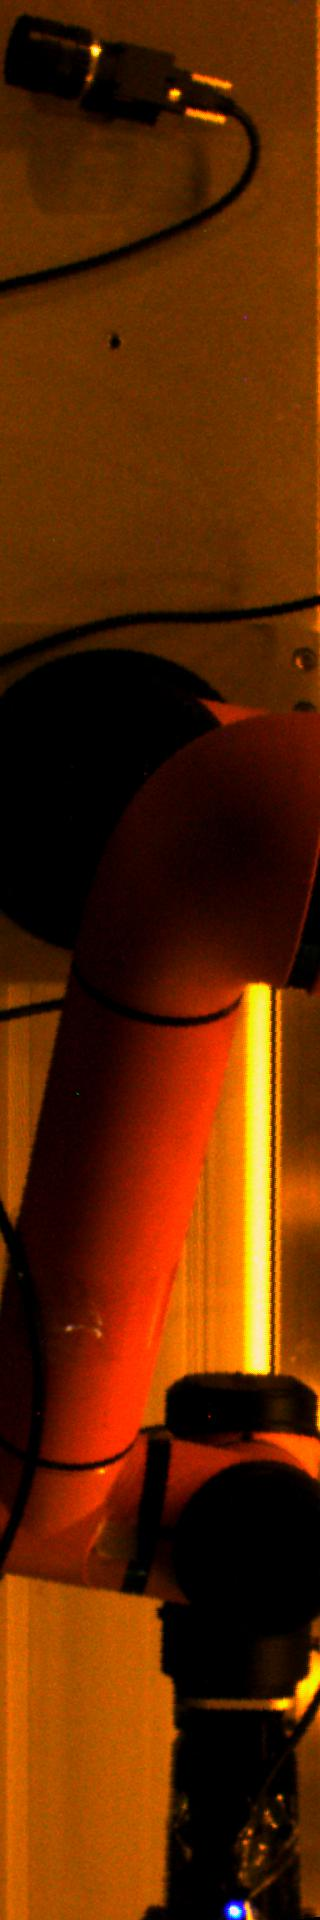keyPoint_2: (99, 328, 129, 358)
